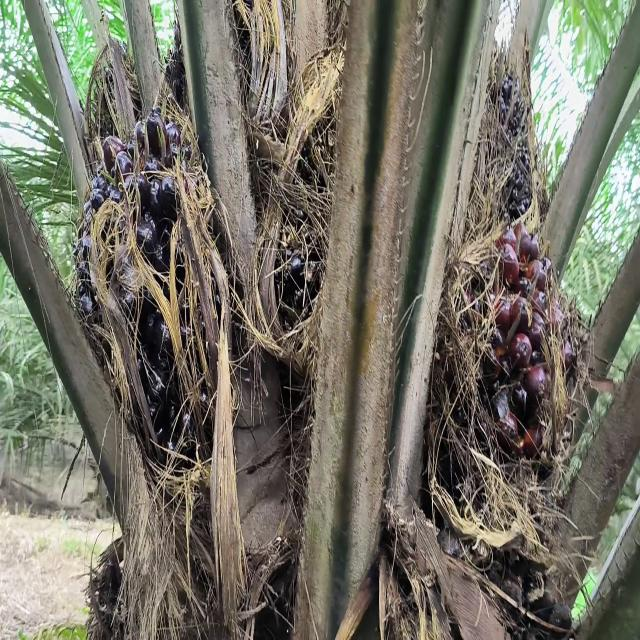palm-oil: (438, 222, 578, 509), (77, 124, 207, 424)
